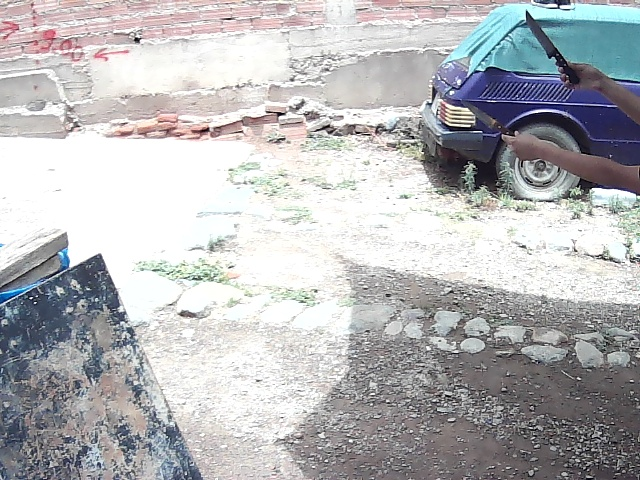cuchillo: (522, 5, 567, 67), (454, 94, 503, 132)
